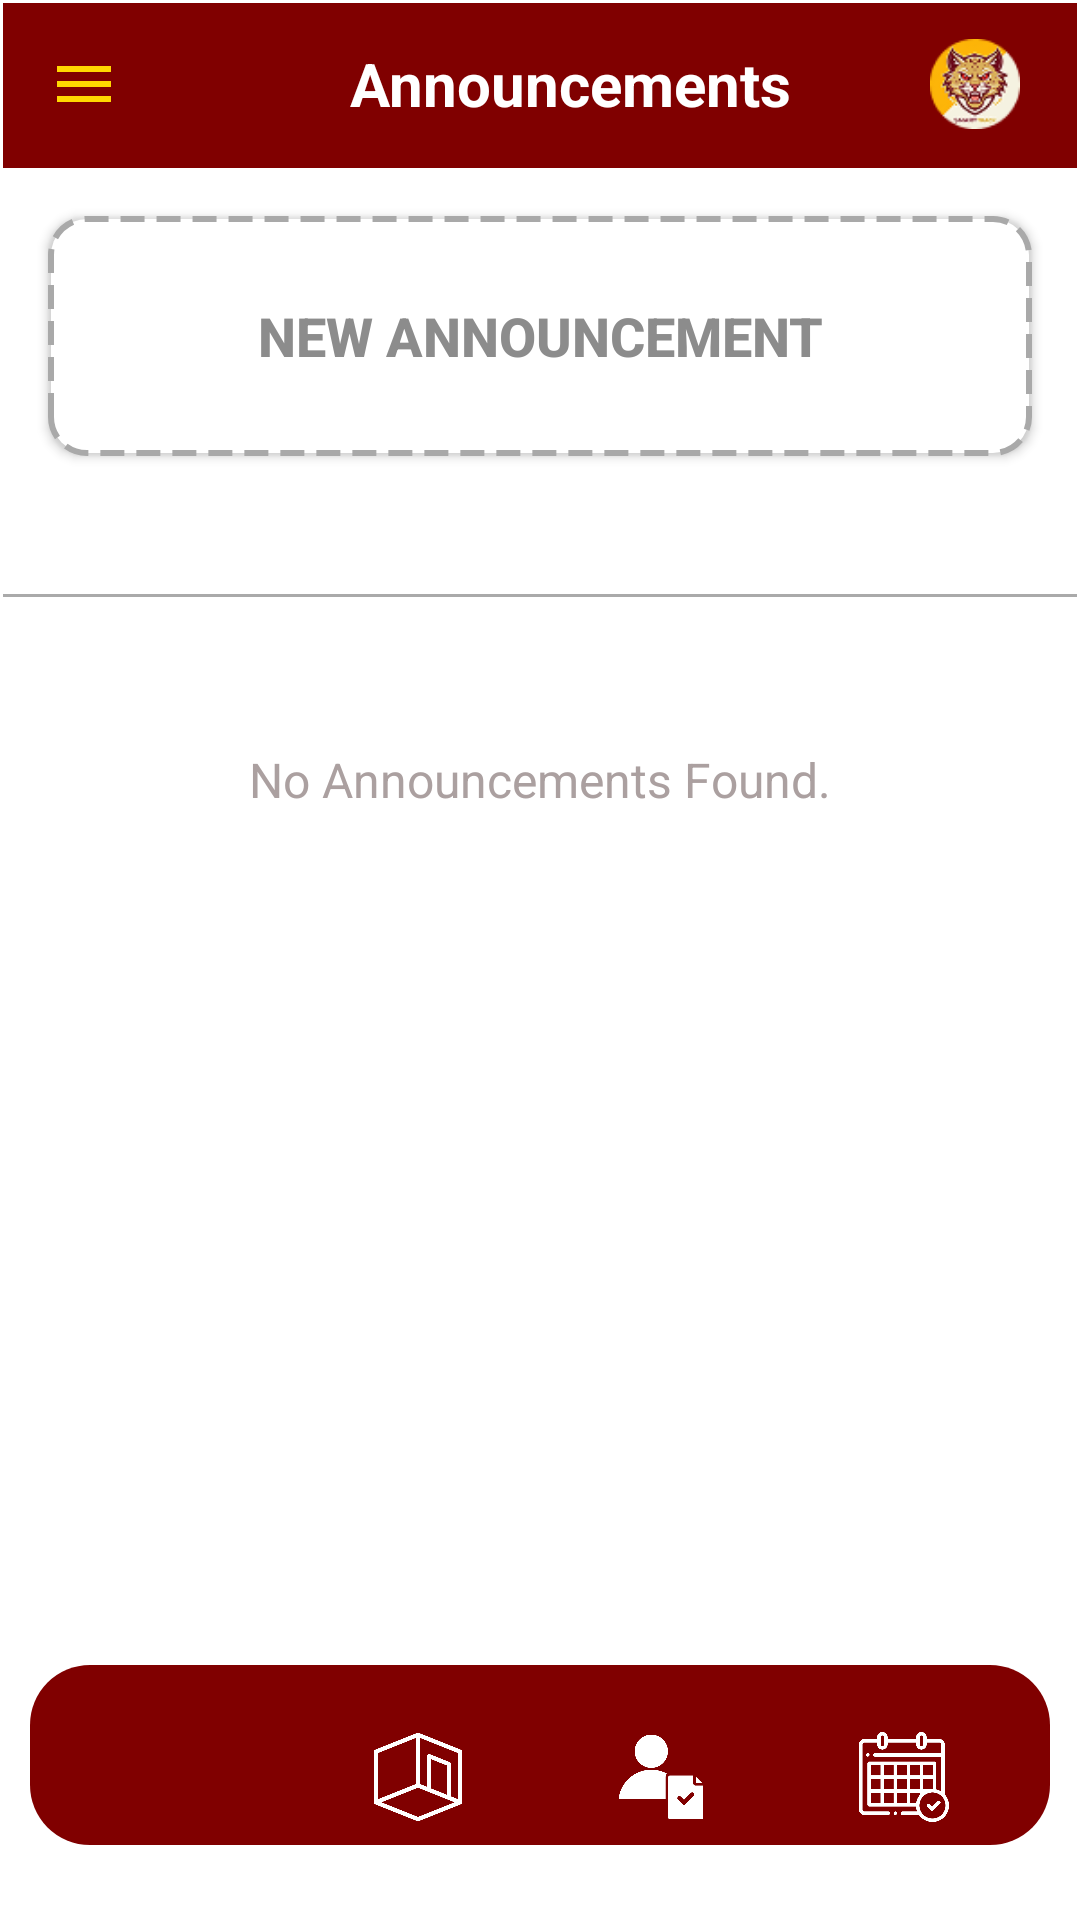

Screen size 1080px×1920px. Icon name, then its box in pixels as (x1, y1, x2, y2):
Menu Icon: (57, 66, 111, 102)
Report: (619, 1735, 703, 1819)
Rooms: (374, 1733, 462, 1821)
Schedule: (859, 1732, 949, 1822)
